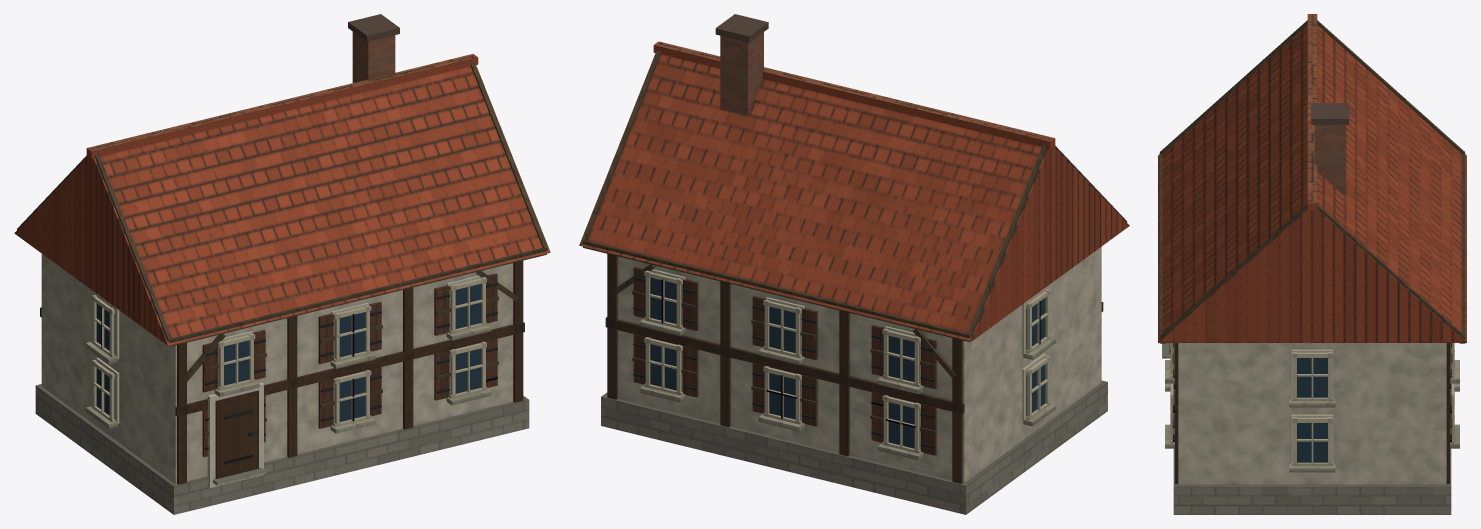
Rendered from farmhouse.glb.
3 renders of one model, left to right at view 1: azimuth 30°, elevation 25°; view 2: azimuth 150°, elevation 25°; view 3: azimuth 270°, elevation 25°, orthographic. The views are drawn at different scales.
Parts seen in each view (by area): view 1: farmhouse; view 2: farmhouse; view 3: farmhouse.
Part boxes in pixels (box(x1,y1,x2,y2)): farmhouse: box(14, 14, 550, 514); farmhouse: box(579, 14, 1129, 514); farmhouse: box(1158, 14, 1466, 514).
Size of the model in its own units: 10 by 9.02 by 6.9.
1 material, 1 textured.
